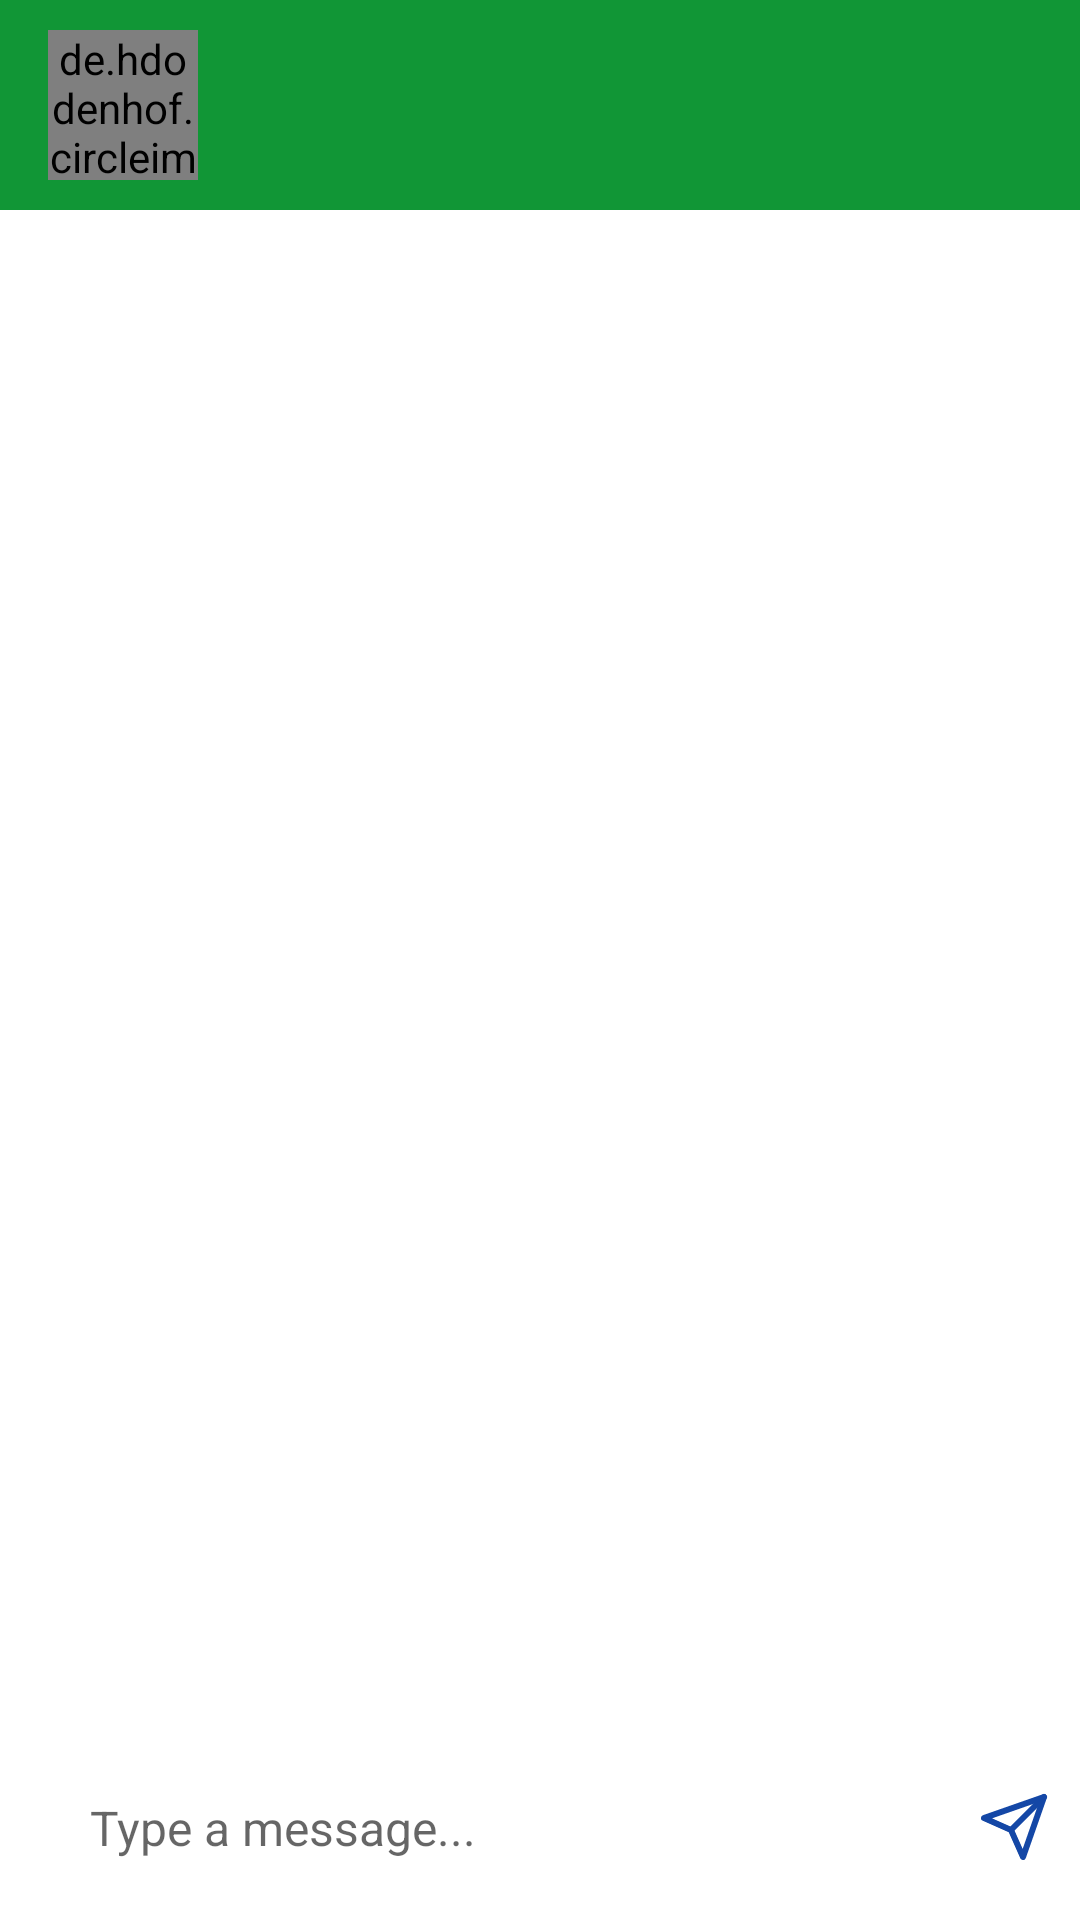

Point at icon controls on the screen. Image size 1080w x 1920h, points as point (x, y).
send: point (1014, 1827)
